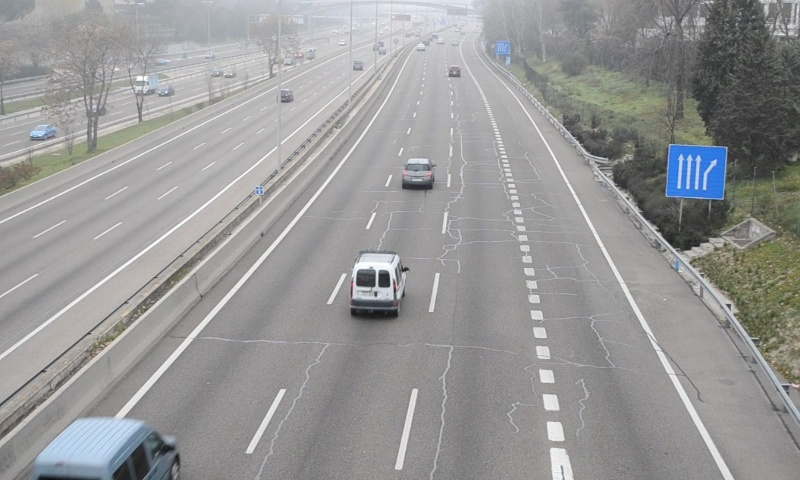car: (402, 158, 434, 187)
van: (26, 418, 178, 480), (350, 252, 407, 315)
